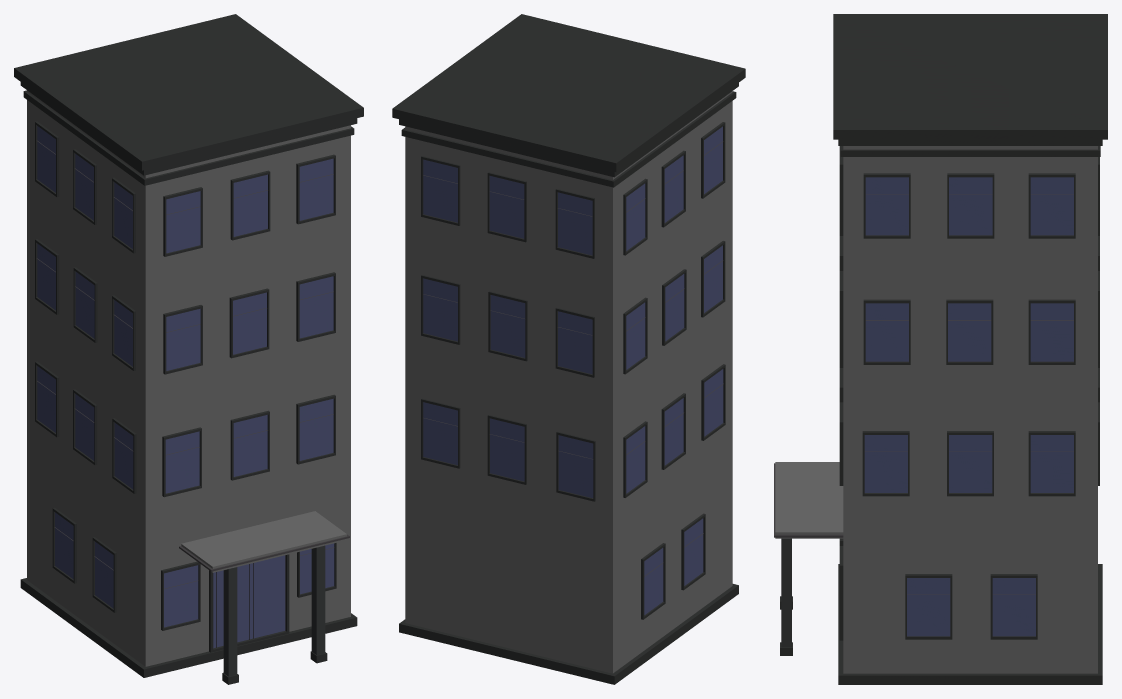
Rendered from pp-office.glb.
The picture shows the model from 3 angles, left to right: view 1: azimuth 30°, elevation 25°; view 2: azimuth 150°, elevation 25°; view 3: azimuth 270°, elevation 25°; orthographic projection. The views are drawn at different scales.
Visible parts, largest first — view 1: Cube; view 2: Cube; view 3: Cube.
Part boxes in pixels (x1,y1,x2,y2): Cube: (14, 14, 363, 684); Cube: (392, 14, 745, 684); Cube: (774, 14, 1107, 684).
Bounding box in the file's own units: 4.36 × 9.77 × 5.3.
Materials: 1 (1 with a texture image).
